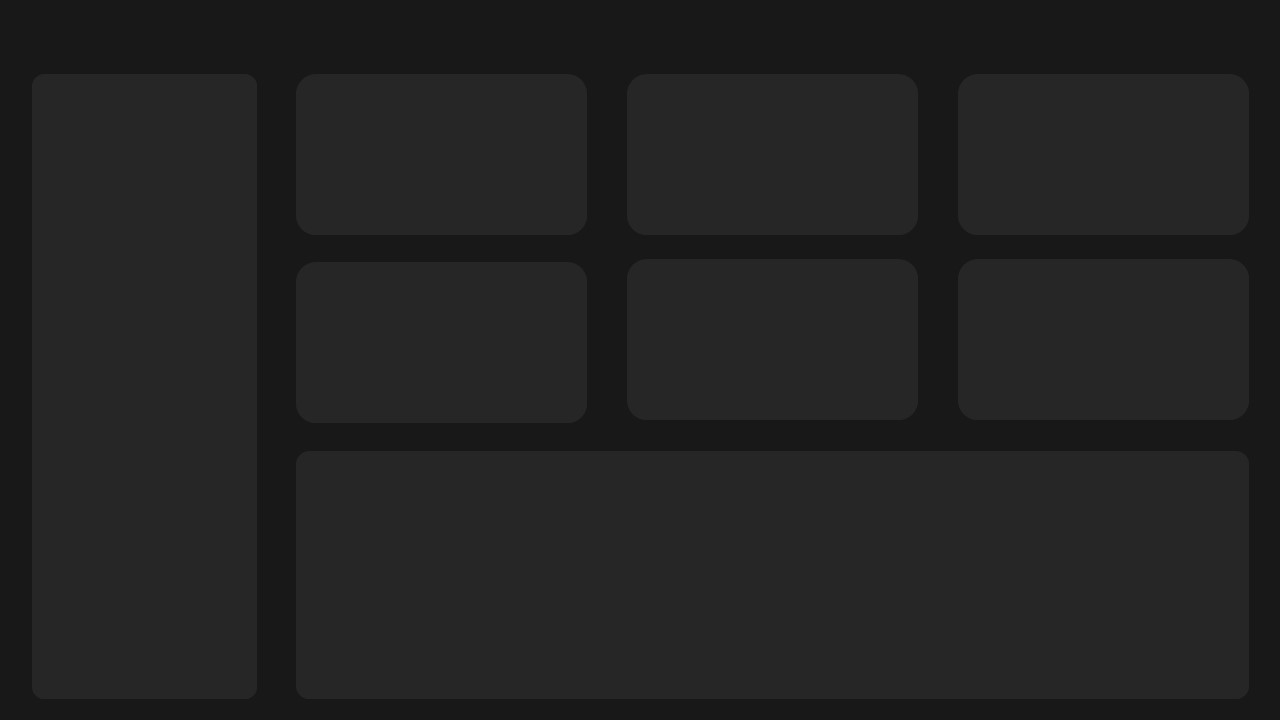

This screenshot's page, from the dashboard's own definition file:
{"tool":"powerbi","page":{"name":"Мій список","canvas":[1280,720],"ordinal":1},"visuals":[{"type":"tableEx","fields":{"Values":["df2.name","df2.price","df2.percent_change_24h","Sum(df2.percent_change_7d)","df2.percent_change_30d","df2.volume_change_24h","df2.volume_24h"]},"box":[295.6,460.3,957.5,236.9],"z":0},{"type":"shape","box":[309.8,355.4,263.8,56.2],"z":1000},{"type":"shape","box":[642.5,352.5,263.8,56.2],"z":2000},{"type":"shape","box":[969.8,352.9,263.8,56.2],"z":3000},{"type":"shape","box":[310,168.8,263.8,56.2],"z":4000},{"type":"card","fields":{"Values":["df2.TON_price"]},"box":[353.2,303.3,140,45],"z":5000},{"type":"card","fields":{"Values":["df2.STRK_price"]},"box":[685.7,302,140,45],"z":6000},{"type":"card","fields":{"Values":["df2.DOT_price"]},"box":[1013.2,300.8,140,45],"z":7000},{"type":"card","fields":{"Values":["df2.ATOM_price"]},"box":[353.3,116.7,140,45],"z":8000},{"type":"card","fields":{"Values":["Sum(df2.percent_change_24h_modified)"]},"box":[309.8,380.4,90,31.2],"z":9000},{"type":"card","fields":{"Values":["Sum(df2.percent_change_24h_modified)"]},"box":[642.3,379.1,90,31.2],"z":10000},{"type":"card","fields":{"Values":["Sum(df2.percent_change_24h_modified)"]},"box":[969.8,377.9,90,31.2],"z":11000},{"type":"card","fields":{"Values":["Sum(df2.percent_change_24h_modified)"]},"box":[310,193.8,90,31.2],"z":12000},{"type":"textbox","box":[360,85,120,41.7],"z":13000},{"type":"textbox","box":[359.8,271.6,120,41.7],"z":14000},{"type":"textbox","box":[692.3,270.4,120,41.7],"z":15000},{"type":"textbox","box":[1019.8,269.1,120,41.7],"z":16000},{"type":"card","fields":{"Values":["Sum(df2.percent_change_7d_modified)"]},"box":[483.8,193.8,90,31.2],"z":17000},{"type":"card","fields":{"Values":["Sum(df2.percent_change_7d_modified)"]},"box":[483.6,380.4,90,31.2],"z":18000},{"type":"card","fields":{"Values":["Sum(df2.percent_change_7d_modified)"]},"box":[816.1,379.1,90,31.2],"z":19000},{"type":"card","fields":{"Values":["Sum(df2.percent_change_7d_modified)"]},"box":[1143.6,377.9,90,31.2],"z":20000},{"type":"textbox","box":[467,168,107.5,33.6],"z":21000},{"type":"textbox","box":[467,356.1,105.8,31.9],"z":22000},{"type":"textbox","box":[802.9,354.4,109.2,31.9],"z":23000},{"type":"textbox","box":[1127.1,351.1,107.5,31.9],"z":24000},{"type":"textbox","box":[313.8,168.8,110,32.5],"z":25000},{"type":"textbox","box":[313.6,355.4,110,32.5],"z":26000},{"type":"textbox","box":[646.1,354.1,110,32.5],"z":27000},{"type":"textbox","box":[973.6,352.9,110,32.5],"z":28000},{"type":"shape","box":[640,168.8,263.8,56.2],"z":29000},{"type":"card","fields":{"Values":["df2.ADA_price"]},"box":[678.3,121.7,140,45],"z":30000},{"type":"textbox","box":[693.3,85,120,41.7],"z":31000},{"type":"card","fields":{"Values":["Sum(df2.percent_change_7d_modified)"]},"box":[813.8,193.8,90,31.2],"z":32000},{"type":"card","fields":{"Values":["Sum(df2.percent_change_24h_modified)"]},"box":[640,193.8,90,31.2],"z":33000},{"type":"textbox","box":[796.2,168,107.5,33.6],"z":34000},{"type":"textbox","box":[645,168.8,108.8,32.5],"z":35000},{"type":"shape","box":[970,168.8,263.8,56.2],"z":36000},{"type":"card","fields":{"Values":["df2.LINK_price"]},"box":[1015,121.7,140,45],"z":37000},{"type":"textbox","box":[1023.3,85,120,41.7],"z":38000},{"type":"card","fields":{"Values":["Sum(df2.percent_change_24h_modified)"]},"box":[970,193.8,90,31.2],"z":39000},{"type":"card","fields":{"Values":["Sum(df2.percent_change_7d_modified)"]},"box":[1141.2,193.8,90,31.2],"z":40000},{"type":"textbox","box":[1125.5,168,107.5,33.6],"z":41000},{"type":"textbox","box":[979,169,115,32],"z":42000},{"type":"image","box":[303.8,77.5,57.5,57.5],"z":43000},{"type":"image","box":[635,77.5,58.8,57.5],"z":44000},{"type":"image","box":[961.2,77.5,58.8,57.5],"z":45000},{"type":"image","box":[303.8,262.5,58.8,57.5],"z":46000},{"type":"image","box":[635,261.2,57.5,57.5],"z":47000},{"type":"image","box":[961.2,261.2,57.5,57.5],"z":48000},{"type":"textbox","box":[31.7,0,1218.3,60],"z":49000},{"type":"pageNavigator","box":[43.7,144.5,199.9,339.3],"z":50000}]}

Visuals, with their boxes in screenshot pixels (x1, y1, x2, y2), scaled from the page's 1280x720 canvas onto the 1280x720 screenshot:
tableEx - df2.name x df2.price: box=[296, 460, 1253, 697]
shape: box=[310, 355, 574, 412]
shape: box=[642, 352, 906, 409]
shape: box=[970, 353, 1234, 409]
shape: box=[310, 169, 574, 225]
card - df2.TON_price: box=[353, 303, 493, 348]
card - df2.STRK_price: box=[686, 302, 826, 347]
card - df2.DOT_price: box=[1013, 301, 1153, 346]
card - df2.ATOM_price: box=[353, 117, 493, 162]
card - Sum(df2.percent_change_24h_modified): box=[310, 380, 400, 412]
card - Sum(df2.percent_change_24h_modified): box=[642, 379, 732, 410]
card - Sum(df2.percent_change_24h_modified): box=[970, 378, 1060, 409]
card - Sum(df2.percent_change_24h_modified): box=[310, 194, 400, 225]
textbox: box=[360, 85, 480, 127]
textbox: box=[360, 272, 480, 313]
textbox: box=[692, 270, 812, 312]
textbox: box=[1020, 269, 1140, 311]
card - Sum(df2.percent_change_7d_modified): box=[484, 194, 574, 225]
card - Sum(df2.percent_change_7d_modified): box=[484, 380, 574, 412]
card - Sum(df2.percent_change_7d_modified): box=[816, 379, 906, 410]
card - Sum(df2.percent_change_7d_modified): box=[1144, 378, 1234, 409]
textbox: box=[467, 168, 574, 202]
textbox: box=[467, 356, 573, 388]
textbox: box=[803, 354, 912, 386]
textbox: box=[1127, 351, 1235, 383]
textbox: box=[314, 169, 424, 201]
textbox: box=[314, 355, 424, 388]
textbox: box=[646, 354, 756, 387]
textbox: box=[974, 353, 1084, 385]
shape: box=[640, 169, 904, 225]
card - df2.ADA_price: box=[678, 122, 818, 167]
textbox: box=[693, 85, 813, 127]
card - Sum(df2.percent_change_7d_modified): box=[814, 194, 904, 225]
card - Sum(df2.percent_change_24h_modified): box=[640, 194, 730, 225]
textbox: box=[796, 168, 904, 202]
textbox: box=[645, 169, 754, 201]
shape: box=[970, 169, 1234, 225]
card - df2.LINK_price: box=[1015, 122, 1155, 167]
textbox: box=[1023, 85, 1143, 127]
card - Sum(df2.percent_change_24h_modified): box=[970, 194, 1060, 225]
card - Sum(df2.percent_change_7d_modified): box=[1141, 194, 1231, 225]
textbox: box=[1126, 168, 1233, 202]
textbox: box=[979, 169, 1094, 201]
image: box=[304, 78, 361, 135]
image: box=[635, 78, 694, 135]
image: box=[961, 78, 1020, 135]
image: box=[304, 262, 363, 320]
image: box=[635, 261, 692, 319]
image: box=[961, 261, 1019, 319]
textbox: box=[32, 0, 1250, 60]
pageNavigator: box=[44, 144, 244, 484]
